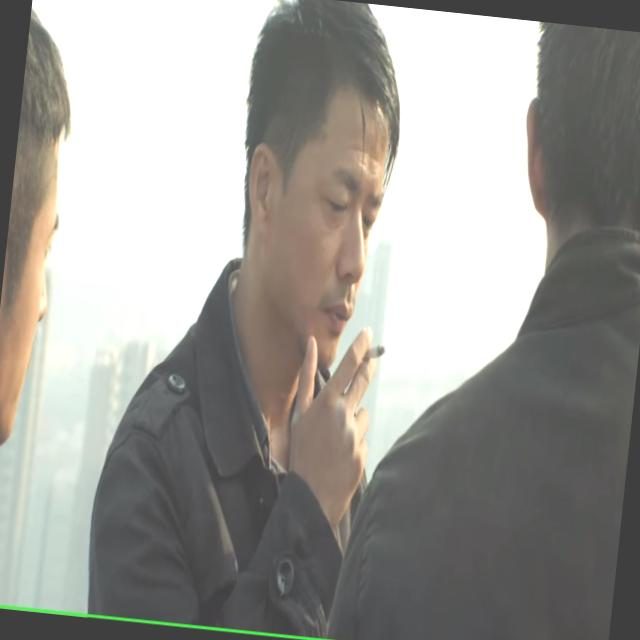cigarette: (354, 336, 388, 365)
